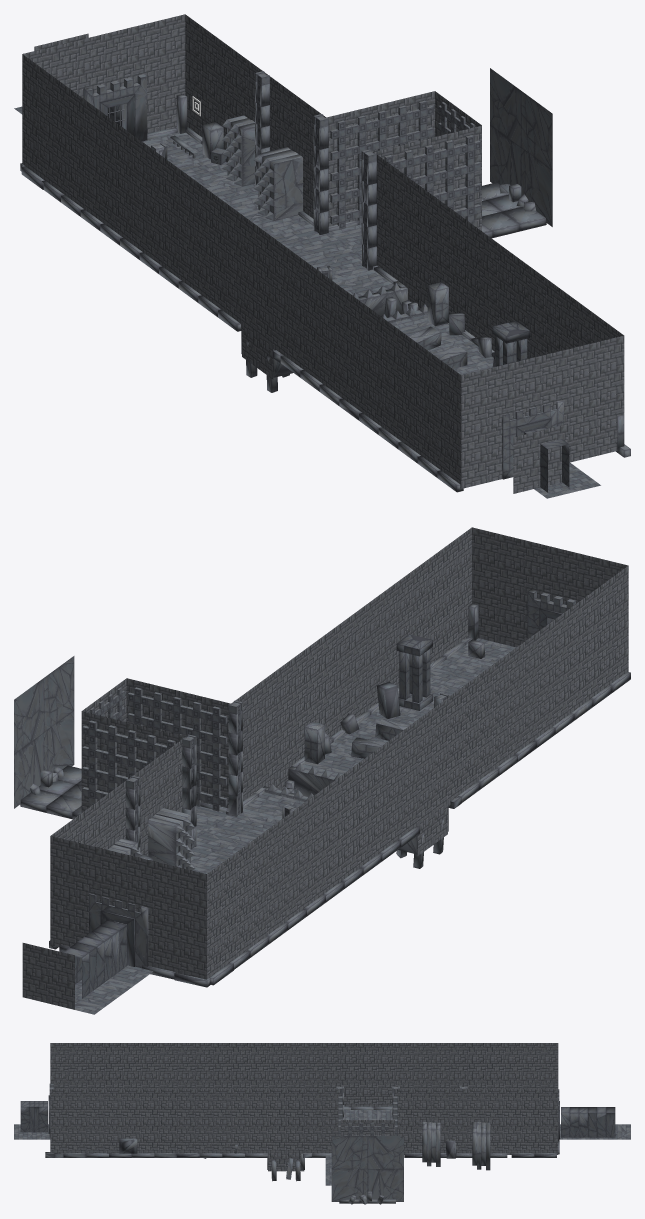
The model's file is SmartStage.fbx.
3 renders of one model, top to bottom at view 1: azimuth 30°, elevation 25°; view 2: azimuth 150°, elevation 25°; view 3: azimuth 270°, elevation 25°, orthographic. The views are drawn at different scales.
Parts seen in each view (by area): view 1: Castle_Deco_Pilar_2; view 2: Castle_Deco_Pilar_2; view 3: Castle_Deco_Pilar_2.
Boxes of the visible parts, x1,y1,x2,y2 form: Castle_Deco_Pilar_2: [14, 14, 630, 498]; Castle_Deco_Pilar_2: [14, 527, 630, 1014]; Castle_Deco_Pilar_2: [14, 1043, 630, 1204].
Bounding box in the file's own units: 3804 × 1711 × 10200.
